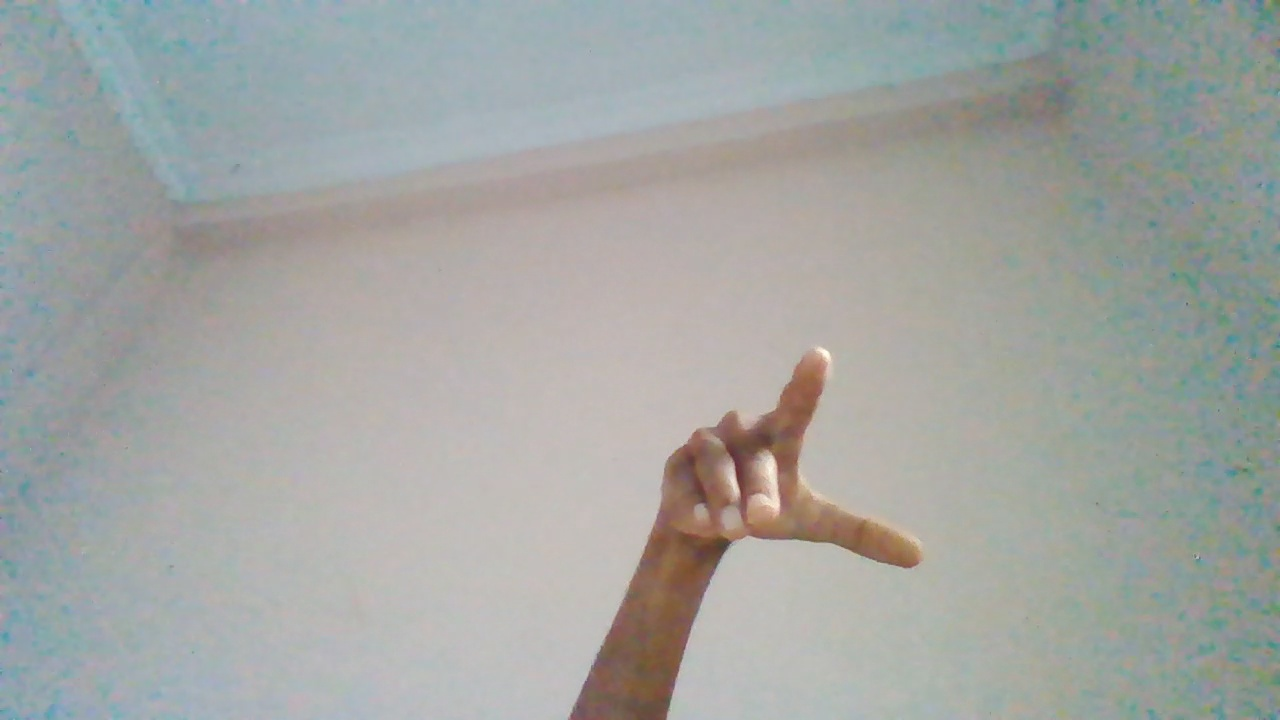ke: (634, 345, 917, 720)
